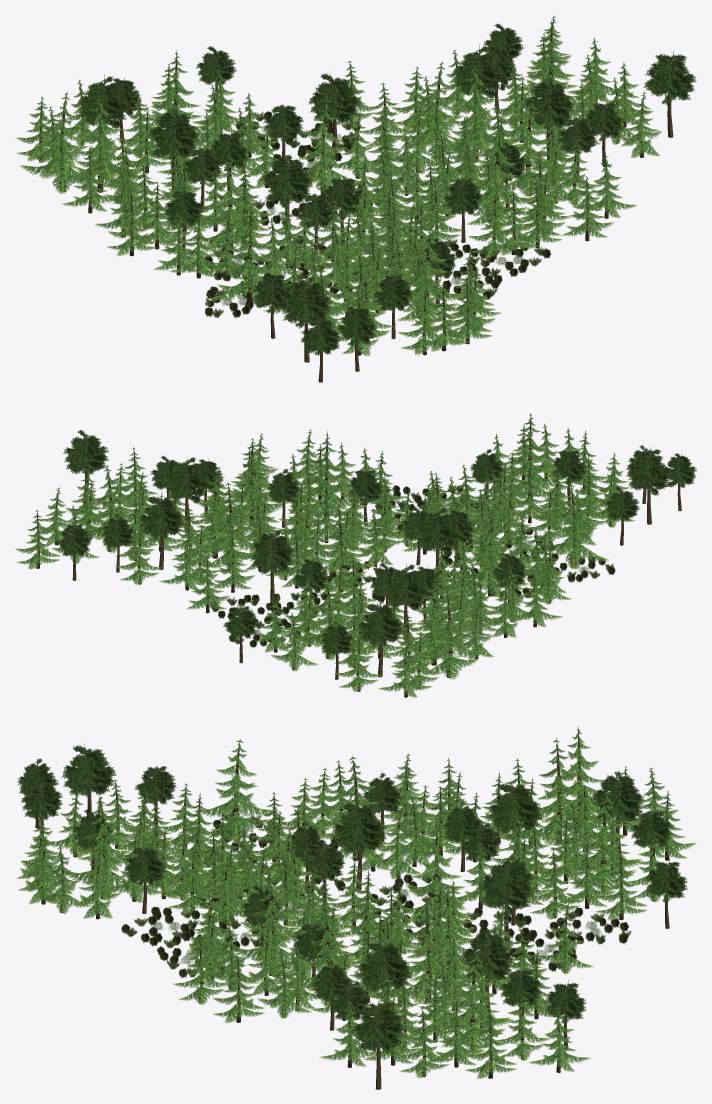
File: FOREST2.glb
3 renders of one model, top to bottom at view 1: azimuth 30°, elevation 25°; view 2: azimuth 150°, elevation 25°; view 3: azimuth 270°, elevation 25°, orthographic. The views are drawn at different scales.
Parts seen in each view (by area): view 1: Object_8, Object_5, Object_6, Object_3, Object_7, Object_4, Object_9, Object_13, Object_11, Object_14, Object_12, Object_10; view 2: Object_8, Object_3, Object_5, Object_6, Object_7, Object_4, Object_9, Object_13, Object_11, Object_14, Object_12; view 3: Object_8, Object_5, Object_3, Object_6, Object_4, Object_7, Object_9, Object_13, Object_11, Object_14, Object_12, Object_10.
Part boxes in pixels (<box>): Object_8: <box>78,46,696,355</box>; Object_5: <box>107,16,661,316</box>; Object_6: <box>29,61,637,248</box>; Object_3: <box>16,52,501,356</box>; Object_7: <box>115,50,636,255</box>; Object_4: <box>20,93,441,301</box>; Object_9: <box>261,23,624,230</box>; Object_13: <box>39,16,644,355</box>; Object_11: <box>200,111,551,318</box>; Object_14: <box>103,22,673,382</box>; Object_12: <box>205,111,546,317</box>; Object_10: <box>221,125,523,305</box>; Object_8: <box>63,430,696,655</box>; Object_3: <box>255,414,634,697</box>; Object_5: <box>16,438,598,631</box>; Object_6: <box>160,429,483,691</box>; Object_7: <box>68,433,405,668</box>; Object_4: <box>274,465,608,679</box>; Object_9: <box>56,456,474,593</box>; Object_13: <box>36,413,615,697</box>; Object_11: <box>211,485,615,647</box>; Object_14: <box>72,430,681,679</box>; Object_12: <box>211,485,613,644</box>; Object_8: <box>17,745,687,1052</box>; Object_5: <box>129,754,590,1078</box>; Object_3: <box>16,739,678,920</box>; Object_6: <box>173,766,695,1022</box>; Object_4: <box>155,729,609,944</box>; Object_7: <box>185,807,640,1065</box>; Object_9: <box>289,803,586,1023</box>; Object_13: <box>38,726,669,1078</box>; Object_11: <box>121,811,628,978</box>; Object_14: <box>35,744,669,1089</box>; Object_12: <box>124,813,631,977</box>; Object_10: <box>151,824,601,964</box>.
Bounding box in the file's own units: 16.36 × 2.75 × 16.22.
7 materials, 7 textured.
